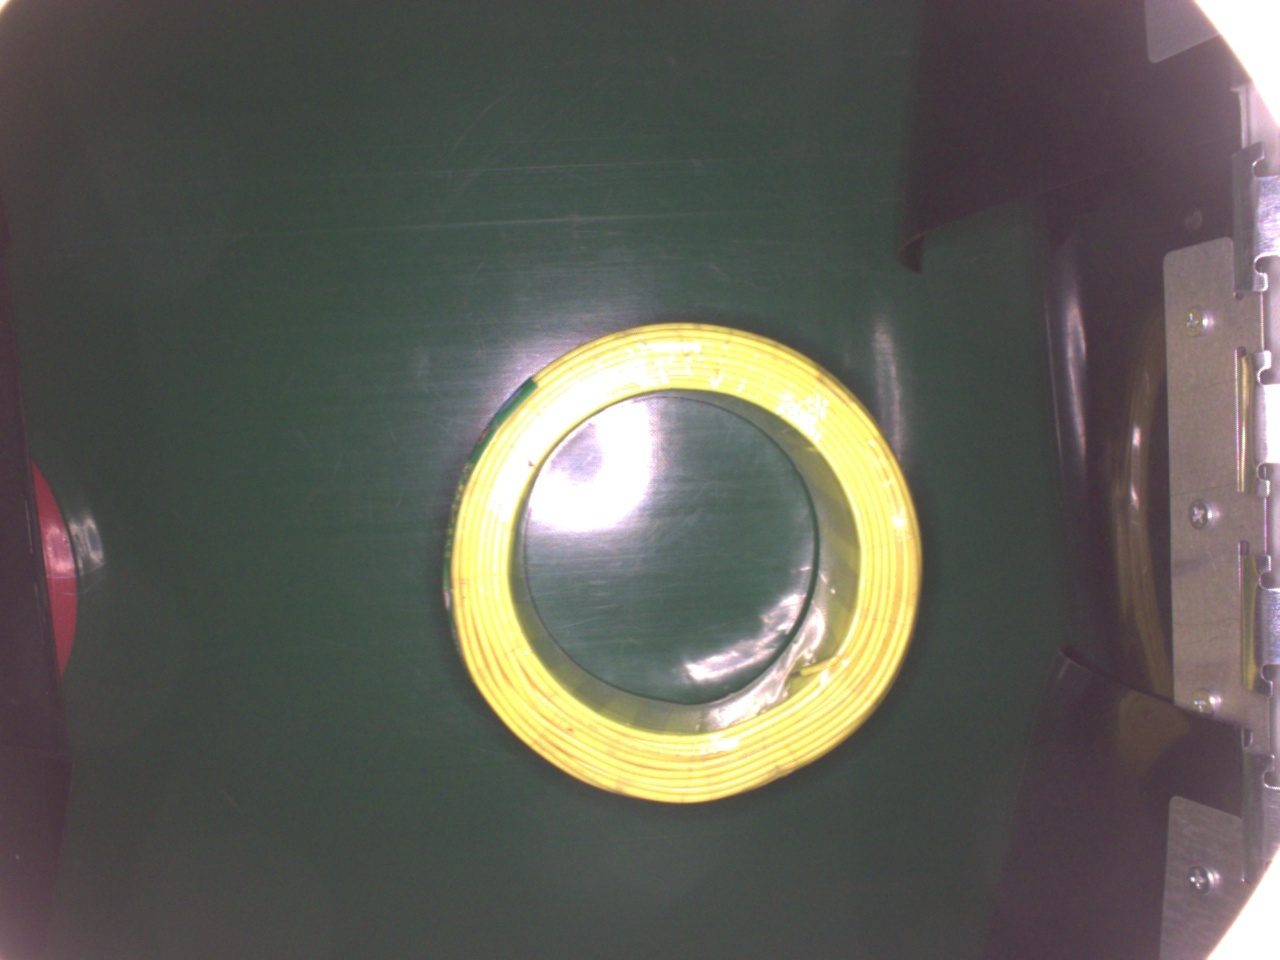yellow: (441, 315, 928, 802)
